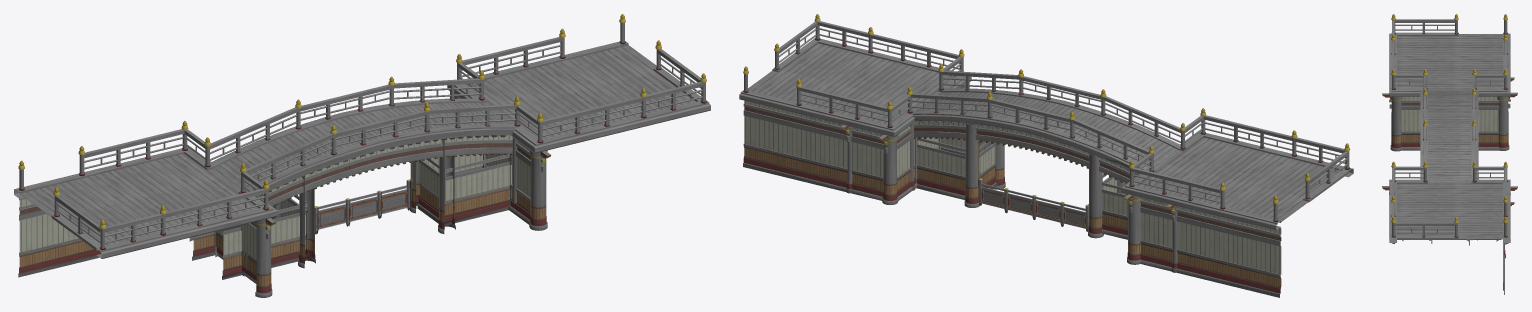
Rendered from SM_ENV_LKNVLD_WallSet_Bridge.FBX.
3 views of the same model, side by side, from view 1: azimuth 30°, elevation 25°; view 2: azimuth 150°, elevation 25°; view 3: azimuth 270°, elevation 25° (orthographic). The views are drawn at different scales.
Visible parts, largest first — view 1: SM_ENV_LKNVLD_WallSet_Bridge; view 2: SM_ENV_LKNVLD_WallSet_Bridge; view 3: SM_ENV_LKNVLD_WallSet_Bridge.
Part boxes in pixels (x1,y1,x2,y2): SM_ENV_LKNVLD_WallSet_Bridge: (14,14,710,297); SM_ENV_LKNVLD_WallSet_Bridge: (739,14,1353,297); SM_ENV_LKNVLD_WallSet_Bridge: (1382,14,1517,294).
Size of the model in its own units: 4490 by 957 by 1256.
